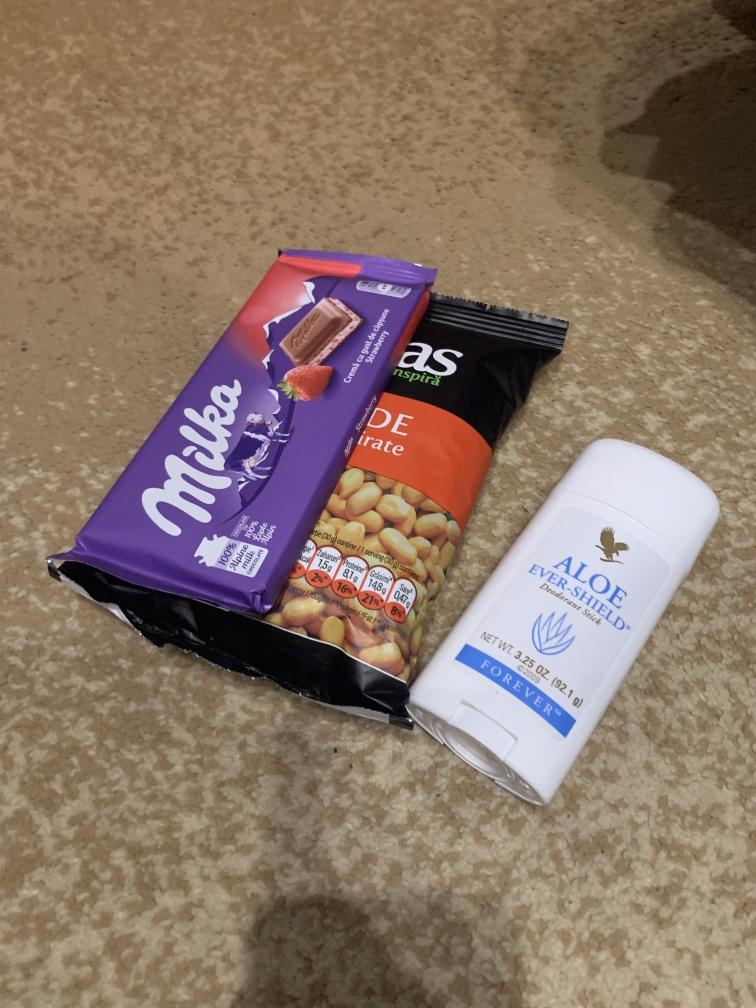milka: (44, 240, 446, 616)
peanuts: (267, 293, 580, 745)
